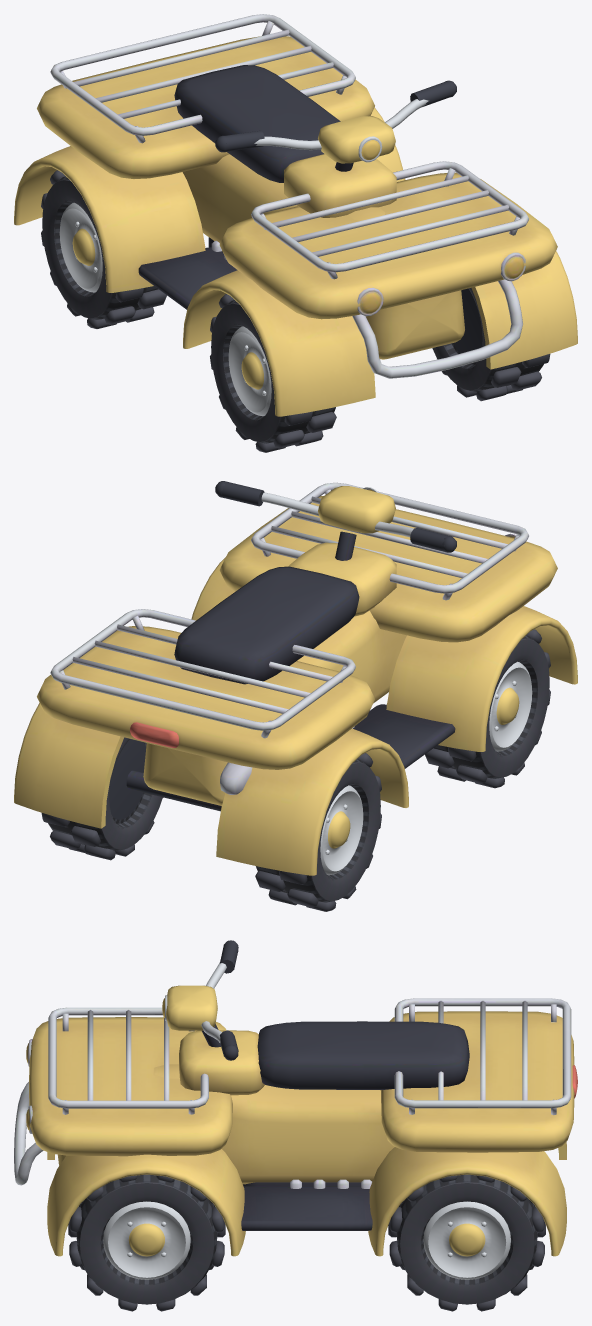
File: atv-quad.glb
3 renders of one model, top to bottom at view 1: azimuth 30°, elevation 25°; view 2: azimuth 150°, elevation 25°; view 3: azimuth 270°, elevation 25°, orthographic. The views are drawn at different scales.
Visible parts, largest first — view 1: atv-quad_body, atv-quad_wheel_fr, atv-quad_wheel_rr, atv-quad_handlebar, atv-quad_wheel_fl; view 2: atv-quad_body, atv-quad_wheel_rr, atv-quad_wheel_fr, atv-quad_wheel_rl, atv-quad_handlebar; view 3: atv-quad_body, atv-quad_wheel_rl, atv-quad_wheel_fl, atv-quad_handlebar.
Boxes of the visible parts, x1,y1,x2,y2 form: atv-quad_body: [14, 14, 577, 416]; atv-quad_wheel_fr: [210, 294, 336, 452]; atv-quad_wheel_rr: [41, 170, 166, 328]; atv-quad_handlebar: [215, 80, 456, 163]; atv-quad_wheel_fl: [432, 288, 550, 401]; atv-quad_body: [14, 482, 577, 875]; atv-quad_wheel_rr: [255, 753, 381, 911]; atv-quad_wheel_fr: [425, 629, 550, 788]; atv-quad_wheel_rl: [41, 737, 163, 860]; atv-quad_handlebar: [215, 481, 456, 552]; atv-quad_body: [14, 998, 577, 1256]; atv-quad_wheel_rl: [388, 1174, 545, 1311]; atv-quad_wheel_fl: [68, 1174, 225, 1311]; atv-quad_handlebar: [162, 940, 238, 1060].
Size of the model in its own units: 1.26 by 1.09 by 2.15.
21 materials, 5 textured.
